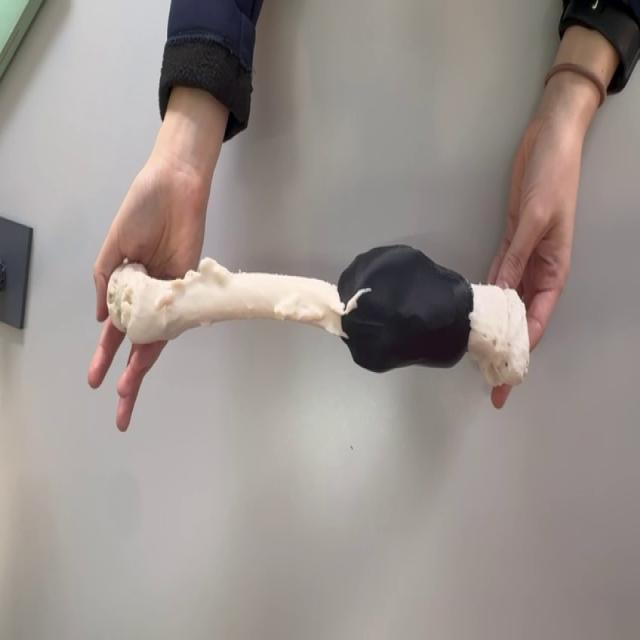bones: (108, 246, 529, 383)
